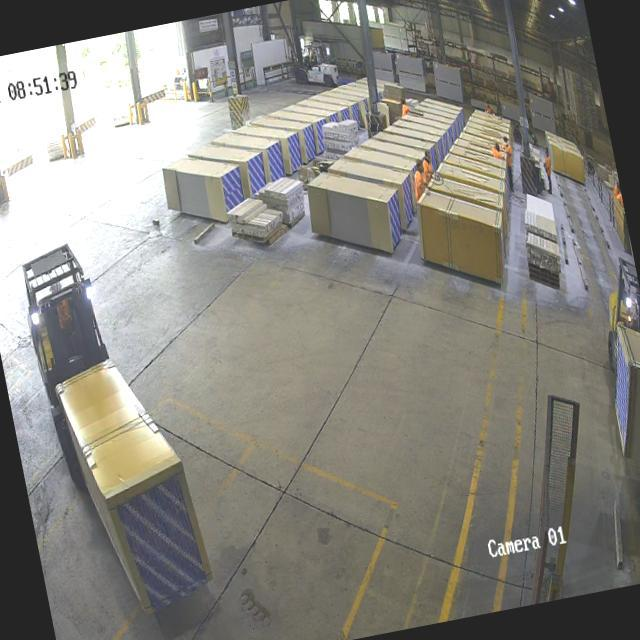forklift: (11, 240, 111, 386)
person: (410, 156, 432, 198), (542, 148, 556, 191), (502, 138, 516, 170)
